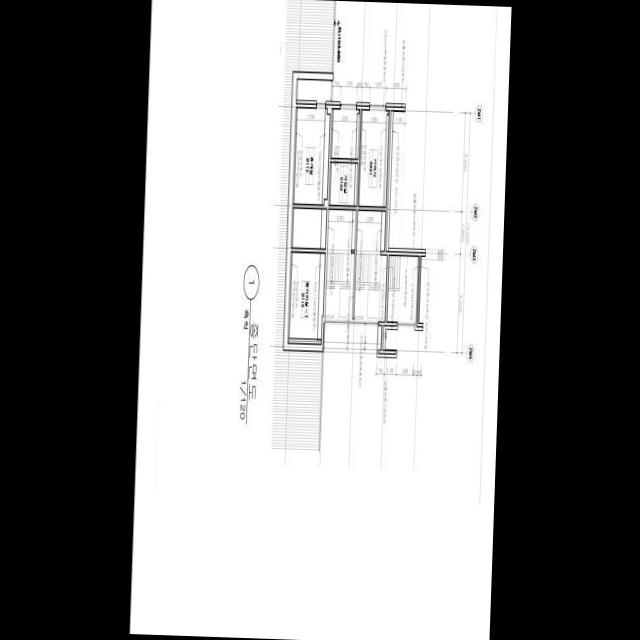background: (129, 0, 511, 640)
space_bedroom: (358, 110, 388, 206)
space_other: (292, 108, 329, 204), (288, 252, 324, 338), (290, 208, 326, 248), (330, 109, 359, 158), (328, 162, 357, 205), (296, 79, 331, 103)
space_staircase: (353, 210, 386, 321), (324, 209, 355, 320), (386, 255, 417, 322)
